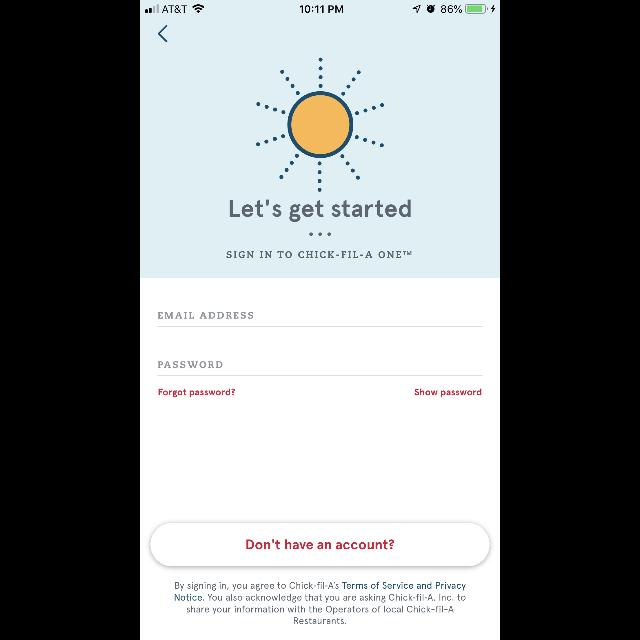icon: (158, 26, 168, 42)
image: (256, 58, 384, 192)
input: (158, 312, 482, 328), (158, 362, 482, 376)
pageindicator: (309, 232, 331, 236)
text: (174, 582, 466, 624), (230, 200, 410, 222), (226, 251, 412, 259), (158, 312, 254, 320), (159, 388, 235, 398), (414, 388, 482, 398), (158, 362, 222, 368)
textbutton: (150, 523, 490, 567)
uppertaskbar: (140, 0, 500, 14)
